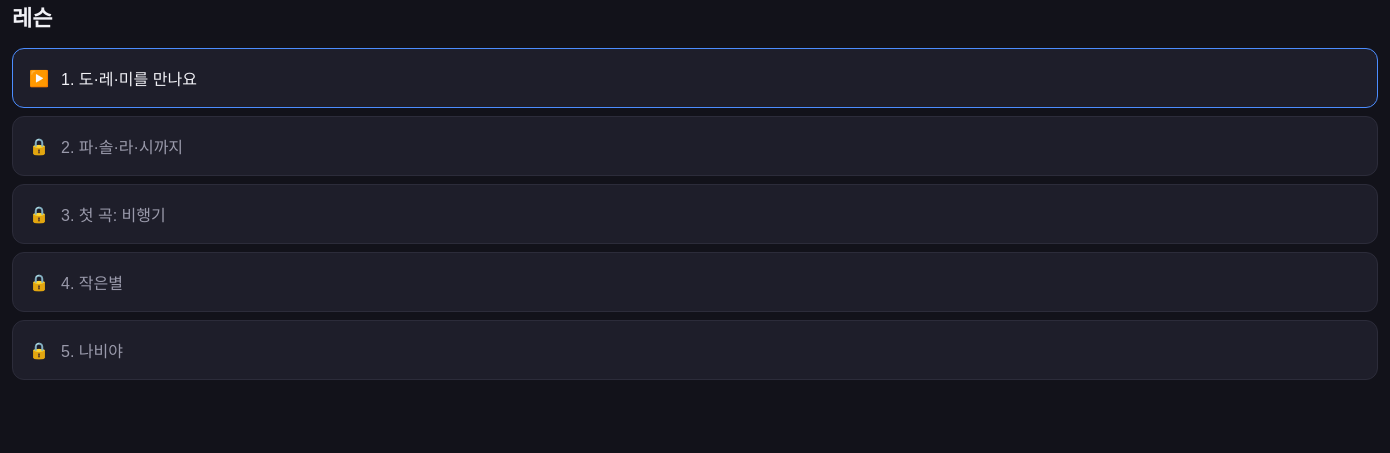
Test: 레슨 목록 › 잠긴 레슨은 진입되지 않고 안내를 보여준다
Click the button "🔒 3. 첫 곡: 비행기" at point(122, 216), box [12,184,1378,244]
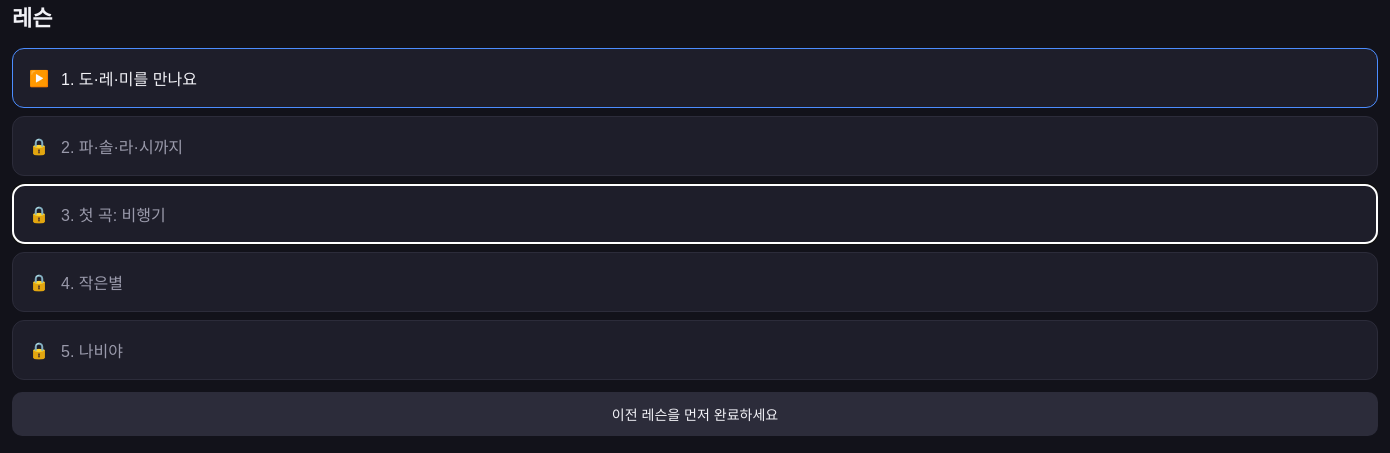
Expected: the message reads "이전 레슨을 먼저 완료하세요", [612,406,778,423]
